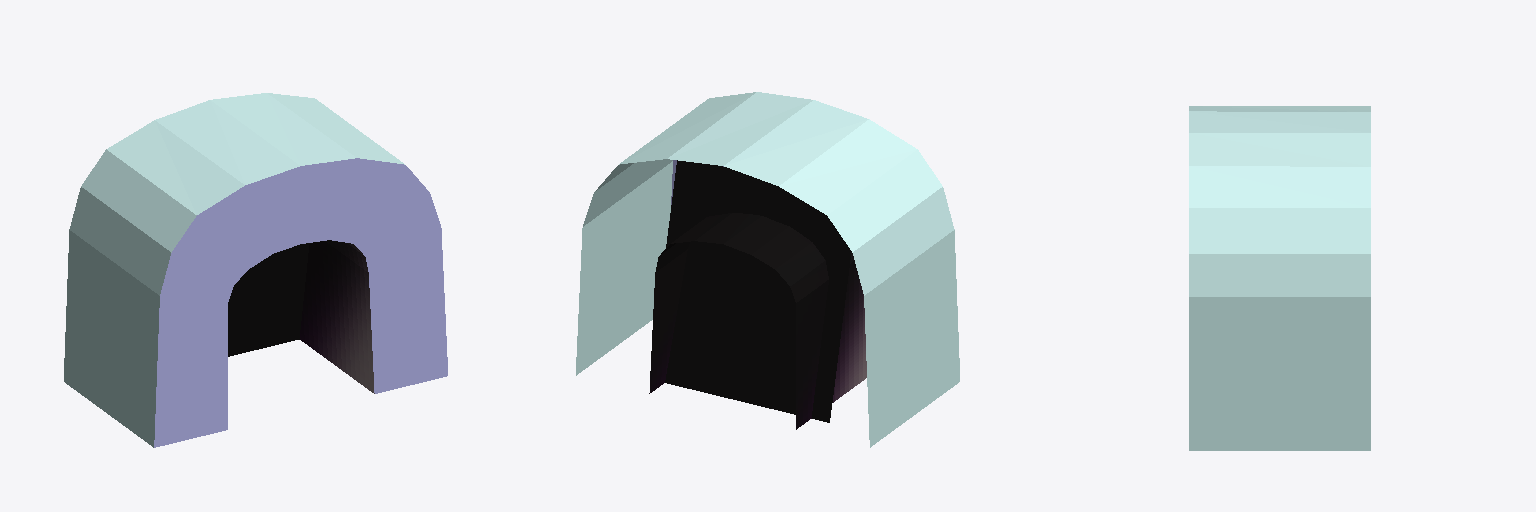
3 views of the same model, side by side, from view 1: azimuth 30°, elevation 25°; view 2: azimuth 150°, elevation 25°; view 3: azimuth 270°, elevation 25° (orthographic).
Visible parts, largest first — view 1: polySurface2; view 2: polySurface2; view 3: polySurface2.
Boxes of the visible parts, x1,y1,x2,y2 form: polySurface2: [64, 93, 447, 447]; polySurface2: [576, 92, 959, 447]; polySurface2: [1189, 106, 1370, 450].
Size of the model in its own units: 95.32 by 76.24 by 50.83.
Materials: 1 (1 with a texture image).